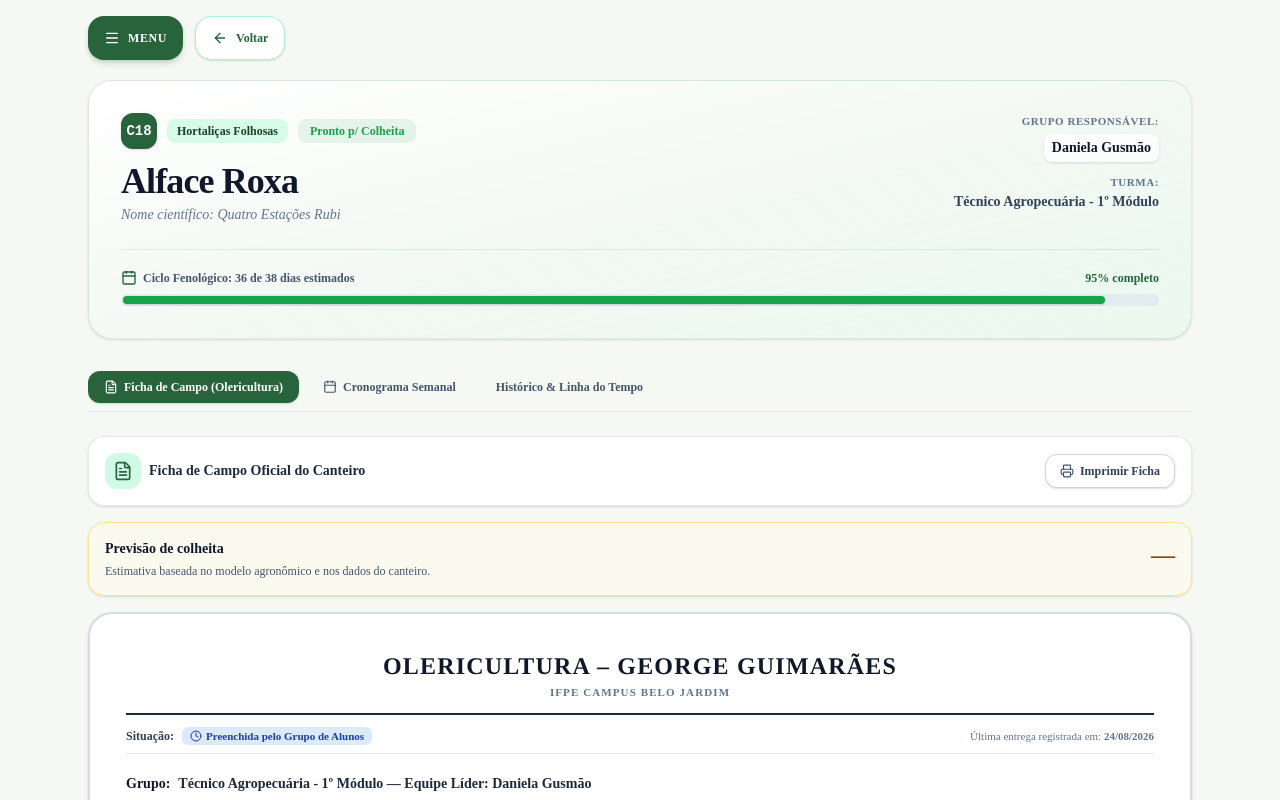
Scenario: CanteiroDetailPage › deve exibir o cronograma específico de Daniela Gusmão para o canteiro C18 (Alface Roxa)
The width and height of the screenshot is (1280, 800).
Click the button "Cronograma Semanal" at (389, 387), box [307,371,472,403]
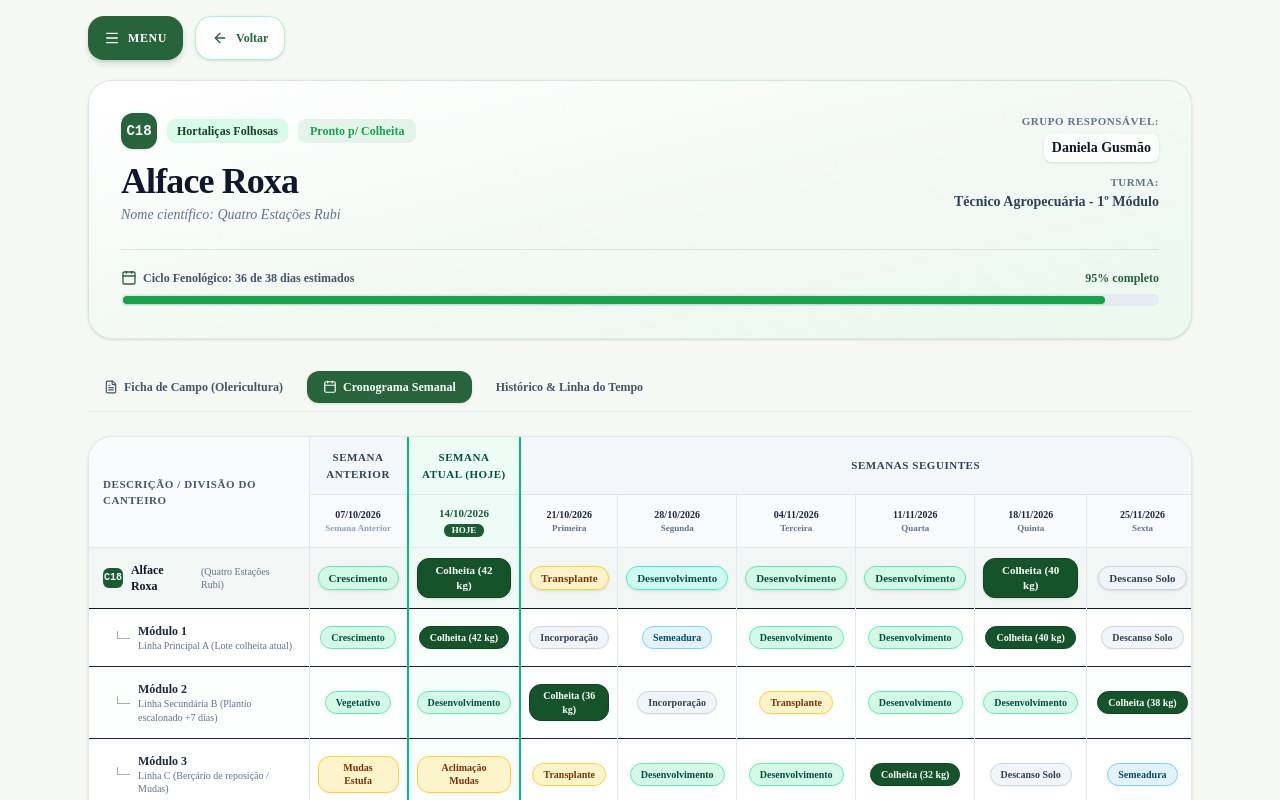
Expected: the heading "Alface Roxa" is shown, [121,161,298,201]
Result: the text "Módulo 1" is shown at [138,624,187,638]
Result: the text "Módulo 2" is shown at [138,682,187,696]
